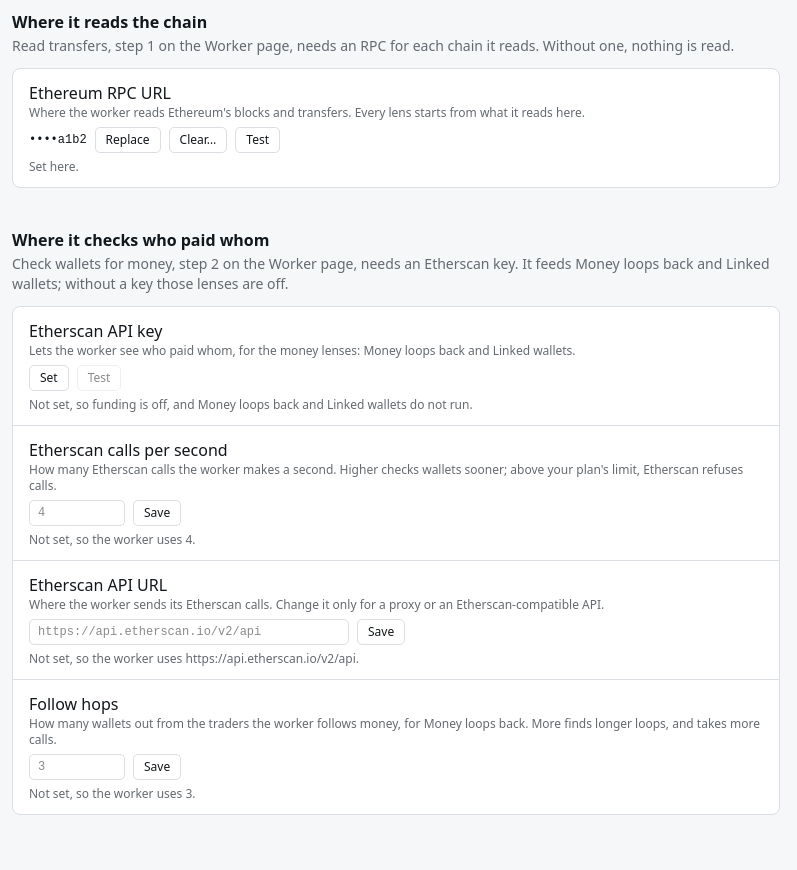
Settings, Test › marks a part that failed, and says what that means
Click the button "Test" in the row of "••••a1b2".
click(258, 140)  # box top-left (235, 127), bottom-right (280, 153)
Wait 500 ms
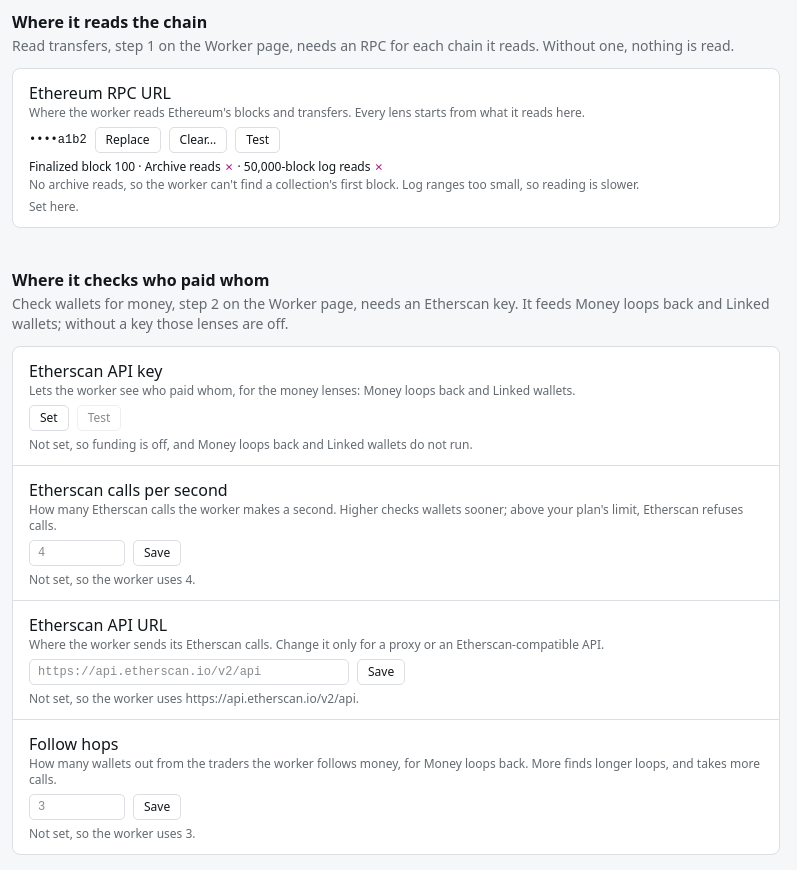
Check: the message shows "Archive reads ✗", box top-left (29, 158), bottom-right (639, 193)
Check: the message shows "50,000-block log reads ✗", box top-left (29, 158), bottom-right (639, 193)
Check: the message shows "can't find a collection's first block", box top-left (29, 176), bottom-right (639, 193)
